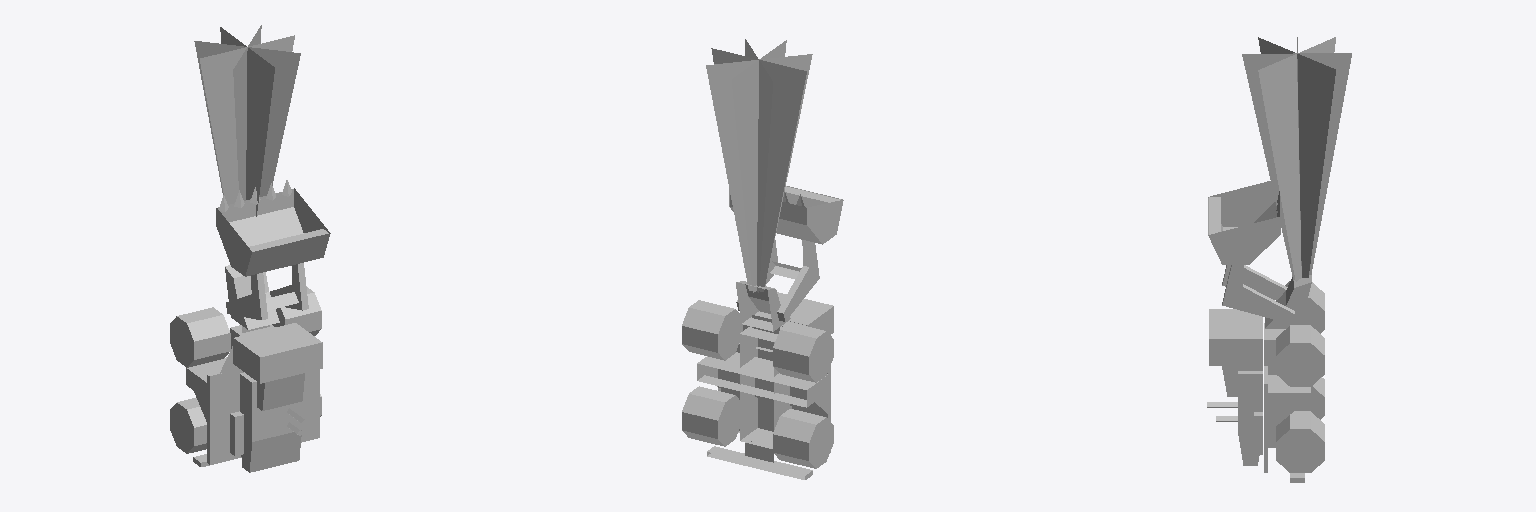
Rendered from USA_DOZER_NEW.obj.
3 views of the same model, side by side, from view 1: azimuth 30°, elevation 25°; view 2: azimuth 150°, elevation 25°; view 3: azimuth 270°, elevation 25° (orthographic).
Parts seen in each view (by area): view 1: Chassis_Chassis, Headlight_Headlight, Bucket_Bucket, Tire1_Tire1, Arms_Arms, Tire3_Tire3, PlayerColor2_PlayerColor2, Tire2_Tire2, PlayerColor1_PlayerColor1; view 2: Headlight_Headlight, Chassis_Chassis, Bucket_Bucket, Tire1_Tire1, Tire3_Tire3, Tire2_Tire2, Tire4_Tire4, Arms_Arms; view 3: Headlight_Headlight, Chassis_Chassis, Bucket_Bucket, Tire2_Tire2, Arms_Arms, Tire4_Tire4, Tire1_Tire1, PlayerColor2_PlayerColor2.
Part boxes in pixels (x1,y1,x2,y2): Chassis_Chassis: (186, 265, 322, 472); Headlight_Headlight: (194, 25, 300, 216); Bucket_Bucket: (216, 180, 330, 276); Tire1_Tire1: (170, 307, 230, 367); Arms_Arms: (226, 263, 308, 319); Tire3_Tire3: (170, 398, 206, 453); PlayerColor2_PlayerColor2: (251, 373, 304, 410); Tire2_Tire2: (272, 286, 321, 335); PlayerColor1_PlayerColor1: (230, 400, 303, 455); Headlight_Headlight: (706, 39, 812, 292); Chassis_Chassis: (697, 281, 833, 479); Bucket_Bucket: (729, 186, 843, 244); Tire1_Tire1: (773, 322, 833, 382); Tire3_Tire3: (773, 409, 833, 468); Tire2_Tire2: (682, 300, 742, 360); Tire4_Tire4: (682, 386, 739, 446); Arms_Arms: (736, 240, 819, 321); Headlight_Headlight: (1242, 37, 1351, 281); Chassis_Chassis: (1207, 275, 1311, 482); Bucket_Bucket: (1208, 181, 1280, 264); Tire2_Tire2: (1276, 325, 1324, 386); Arms_Arms: (1222, 265, 1294, 323); Tire4_Tire4: (1276, 411, 1324, 472); Tire1_Tire1: (1276, 281, 1324, 333); PlayerColor2_PlayerColor2: (1222, 366, 1262, 396).
Bounding box in the file's own units: 20.01 × 60.84 × 19.69.